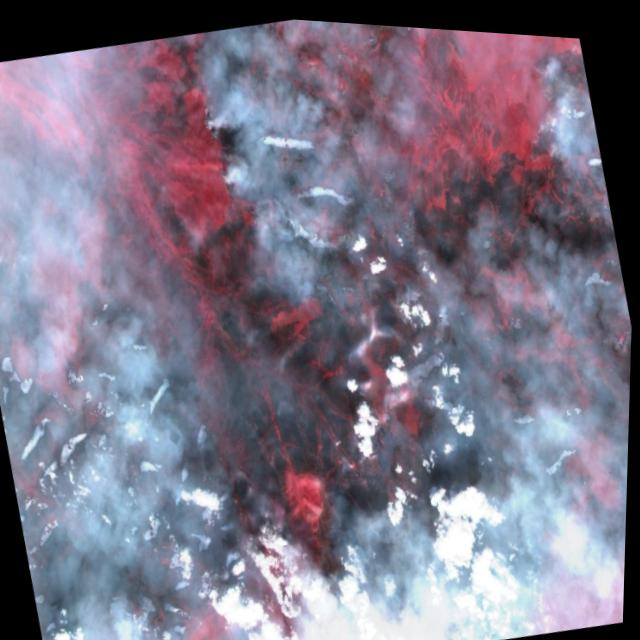fire: (164, 12, 311, 242), (498, 35, 608, 205)
